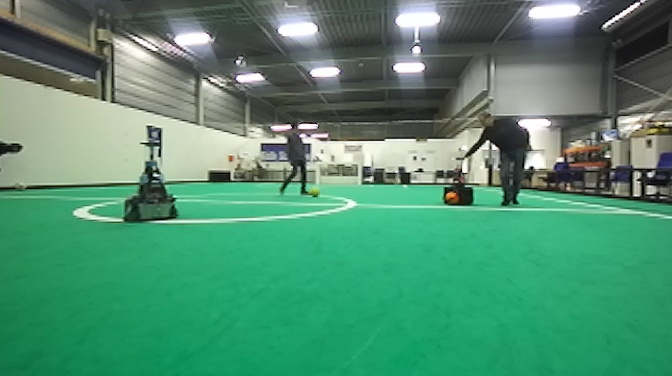ball: (10, 176, 29, 193), (307, 184, 323, 202), (444, 190, 460, 207)
goal: (315, 160, 363, 187)
goalpost: (314, 162, 322, 185), (356, 161, 363, 185)
human: (453, 107, 534, 208), (275, 117, 311, 197)
robot: (119, 137, 180, 224), (441, 154, 476, 208)
